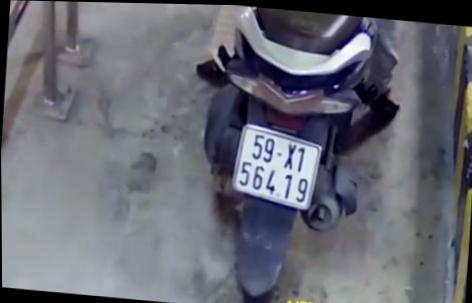LP: (230, 119, 323, 210)
